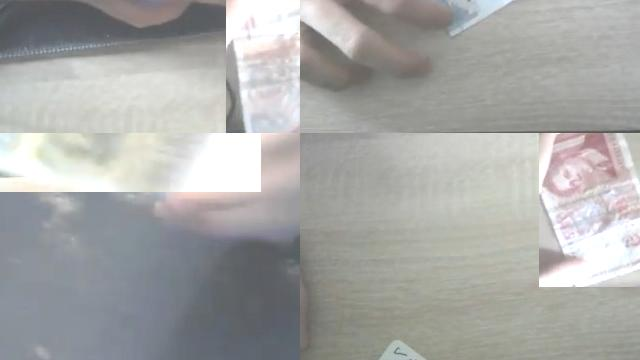5leva: (539, 133, 640, 287)
